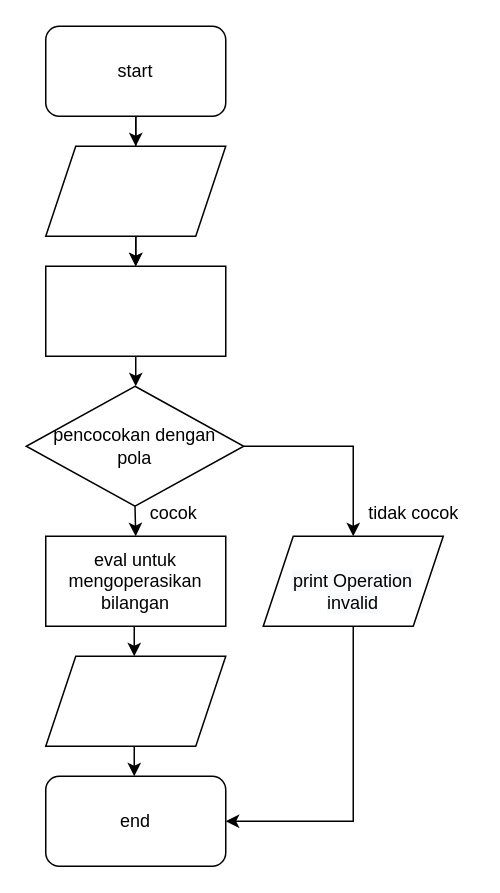
This 500x893 diagram has some shape labels left out. The shapes that lost their labels are listed below. From the top down, each one's centre as x and y in pixels, then its label:
the point at 135,190: input operasi
the point at 135,310: mencari pola yang cocok
the point at 135,700: print hasil
